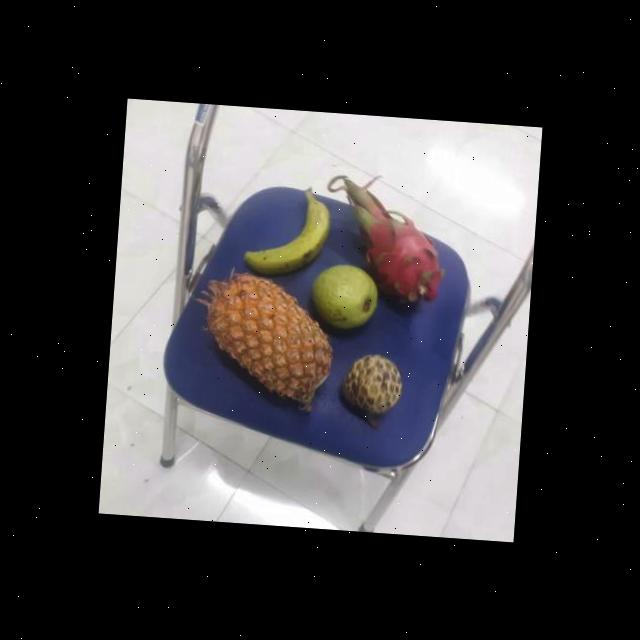Sakya fruit: (338, 352, 405, 416)
banana: (240, 188, 330, 280)
guava: (306, 263, 381, 333)
pineapple: (194, 271, 338, 411)
pitaya: (344, 204, 442, 304)
